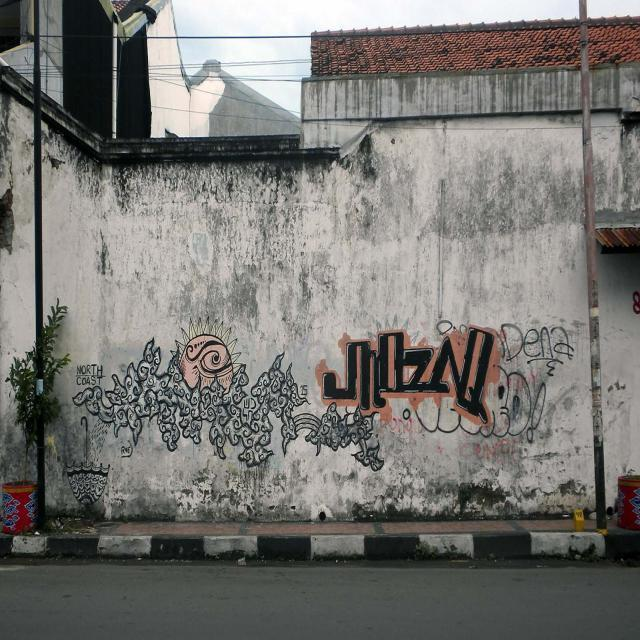-: (66, 315, 384, 509), (314, 324, 492, 421), (414, 364, 546, 446), (502, 322, 574, 379)
